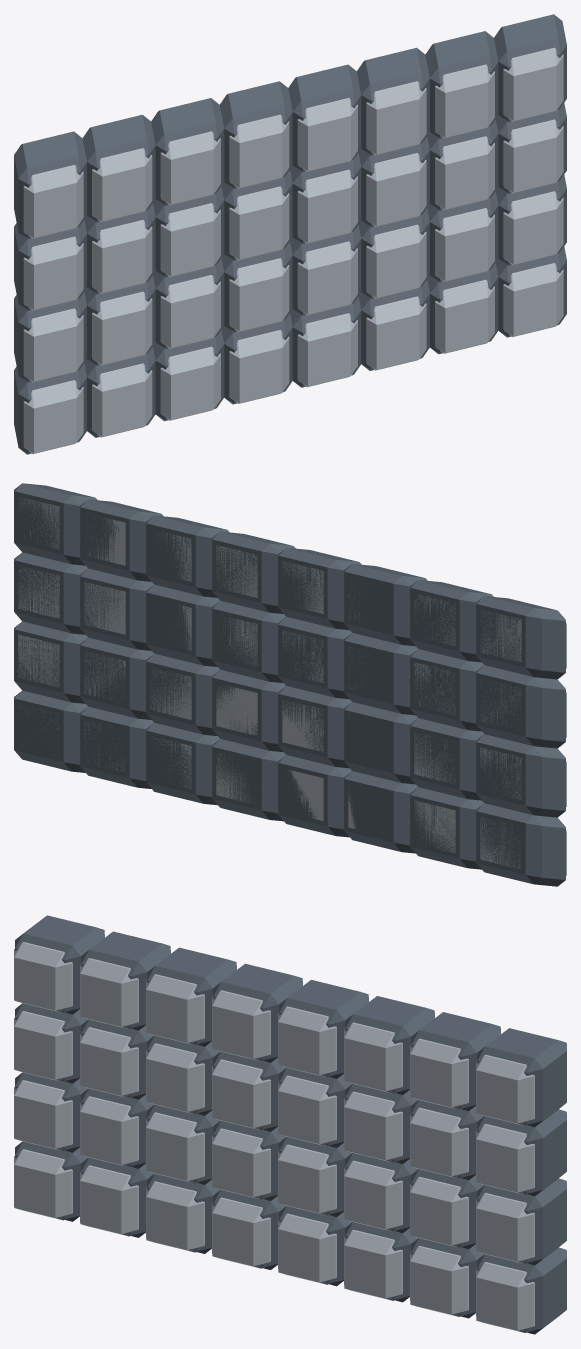
Rendered from Terrain_Block8x4.gltf.
3 views of the same model, one above another, from view 1: azimuth 30°, elevation 25°; view 2: azimuth 150°, elevation 25°; view 3: azimuth 330°, elevation 25° (orthographic). The views are drawn at different scales.
Parts seen in each view (by area): view 1: Terrain_Block8x4_baked; view 2: Terrain_Block8x4_baked; view 3: Terrain_Block8x4_baked.
Part boxes in pixels (x1,y1,x2,y2): Terrain_Block8x4_baked: [14, 14, 566, 454]; Terrain_Block8x4_baked: [14, 483, 566, 886]; Terrain_Block8x4_baked: [14, 915, 566, 1334].
Bounding box in the file's own units: 8.15 × 4.15 × 0.7.
